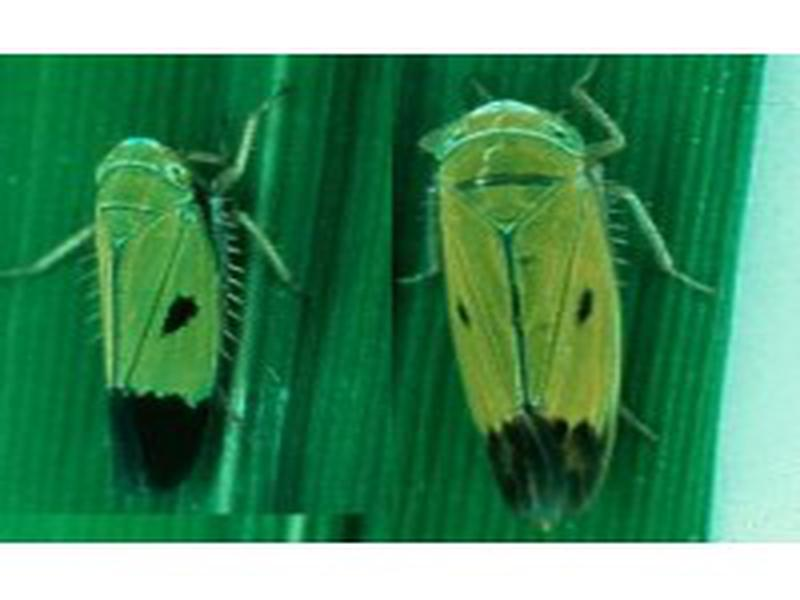Whorl_maggot: (400, 108, 650, 520), (67, 126, 248, 495)
